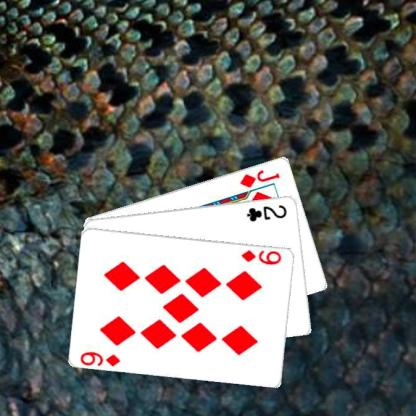2C: (244, 202, 288, 222)
9D: (239, 247, 283, 266), (78, 349, 122, 367)
JD: (237, 167, 281, 189)
